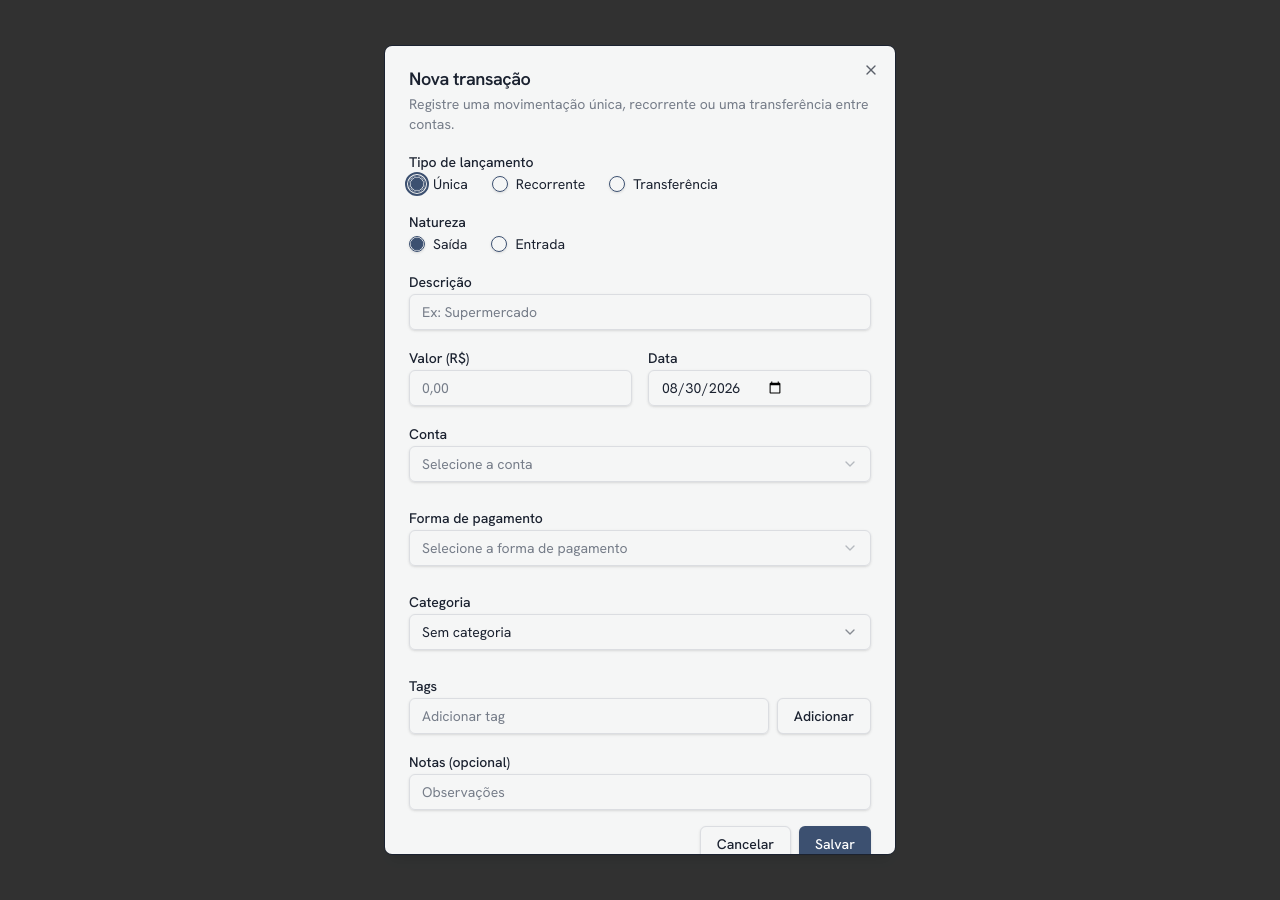
TransactionForm › displays a server error when creation fails
The width and height of the screenshot is (1280, 900).
Type "Supermercado" into the field labelled "Descrição".
click(640, 312); type("Supermercado")  # box [409,294,871,330]
Type "50,00" into the field labelled "Valor (R$)".
click(520, 388); type("50,00")  # box [409,370,632,406]
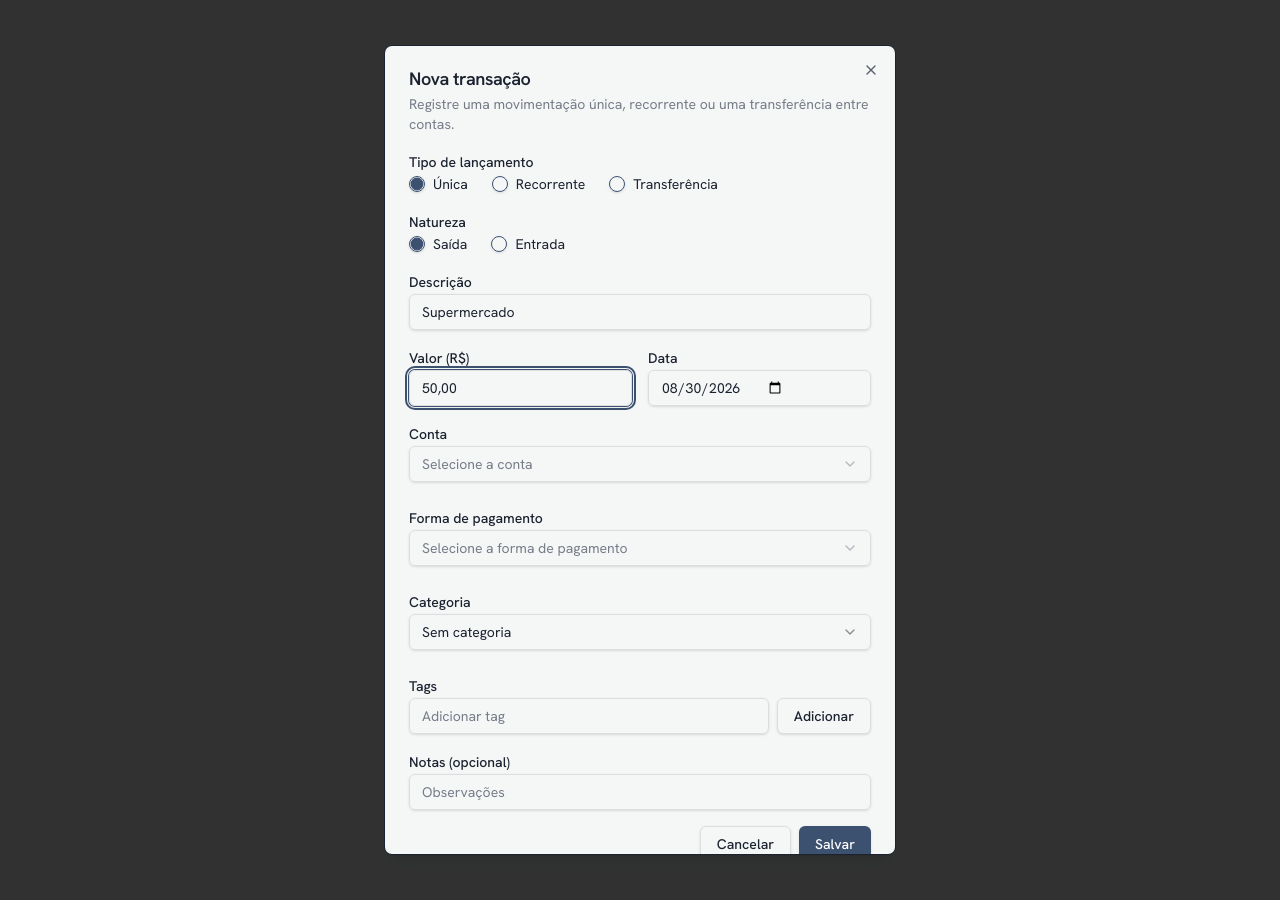
Click the dropdown labelled "conta".
click(477, 464)  # box [409,446,871,482]
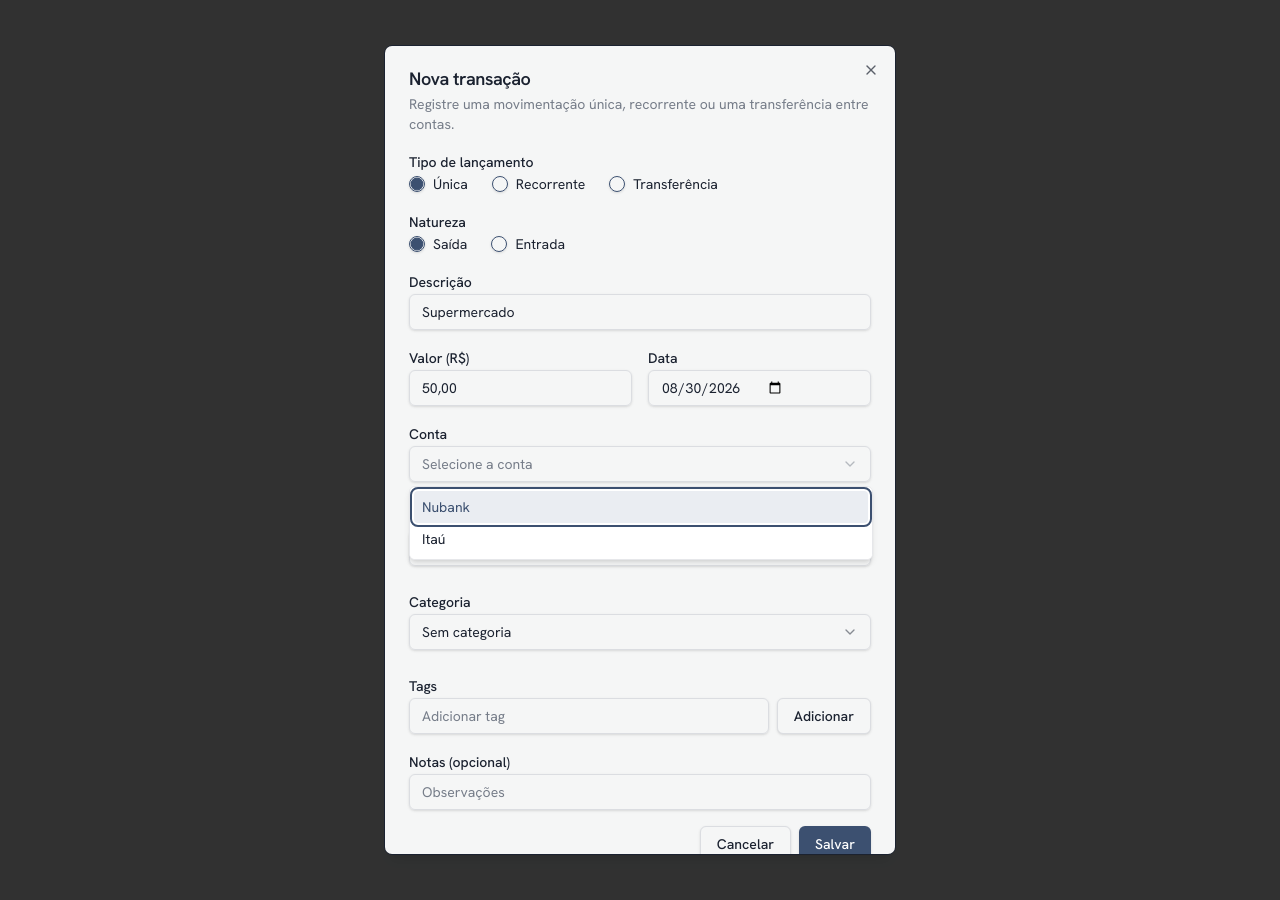
Click the option "Nubank".
click(446, 507)  # box [414,491,868,523]
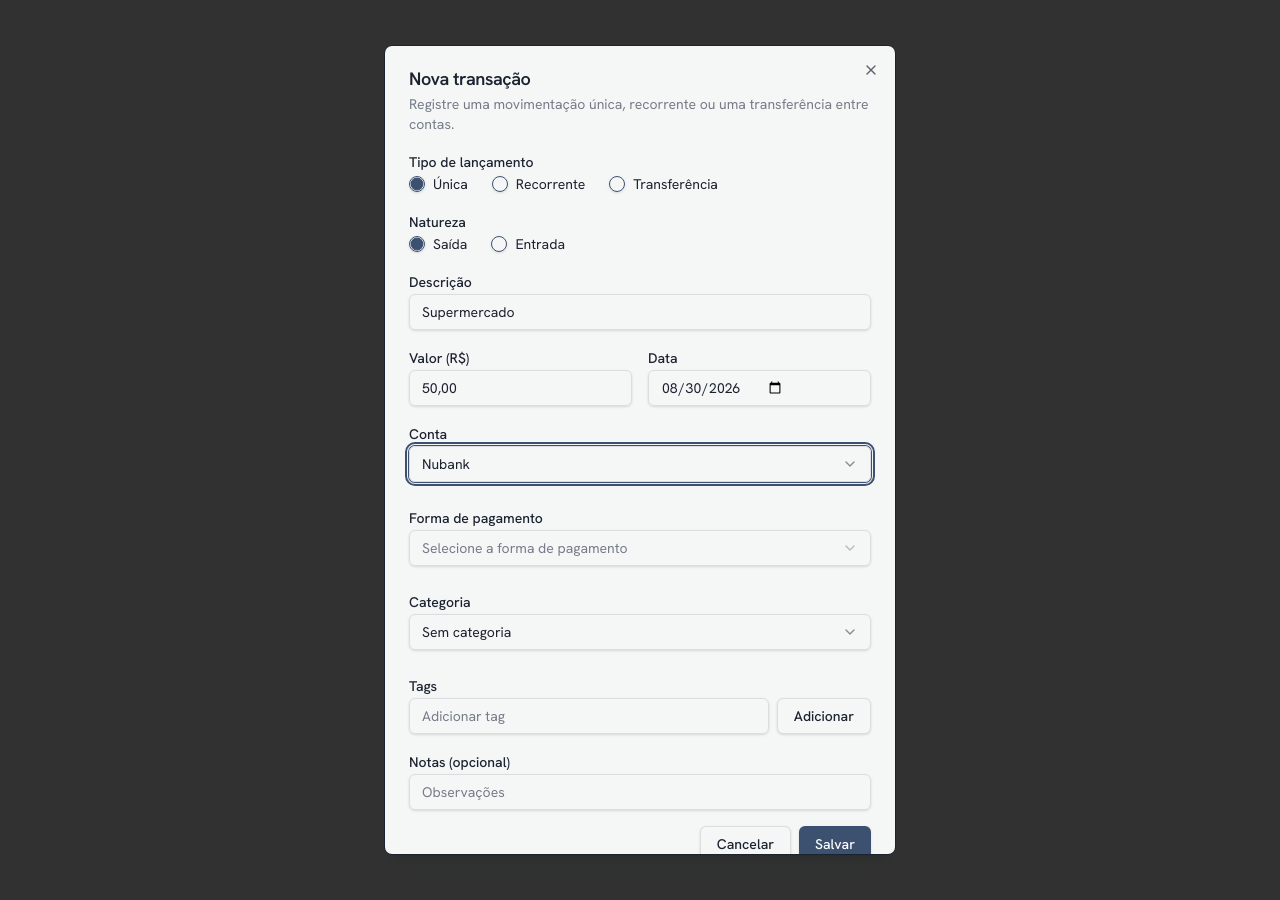
Click the dropdown labelled "forma de pagamento".
click(525, 548)  # box [409,530,871,566]
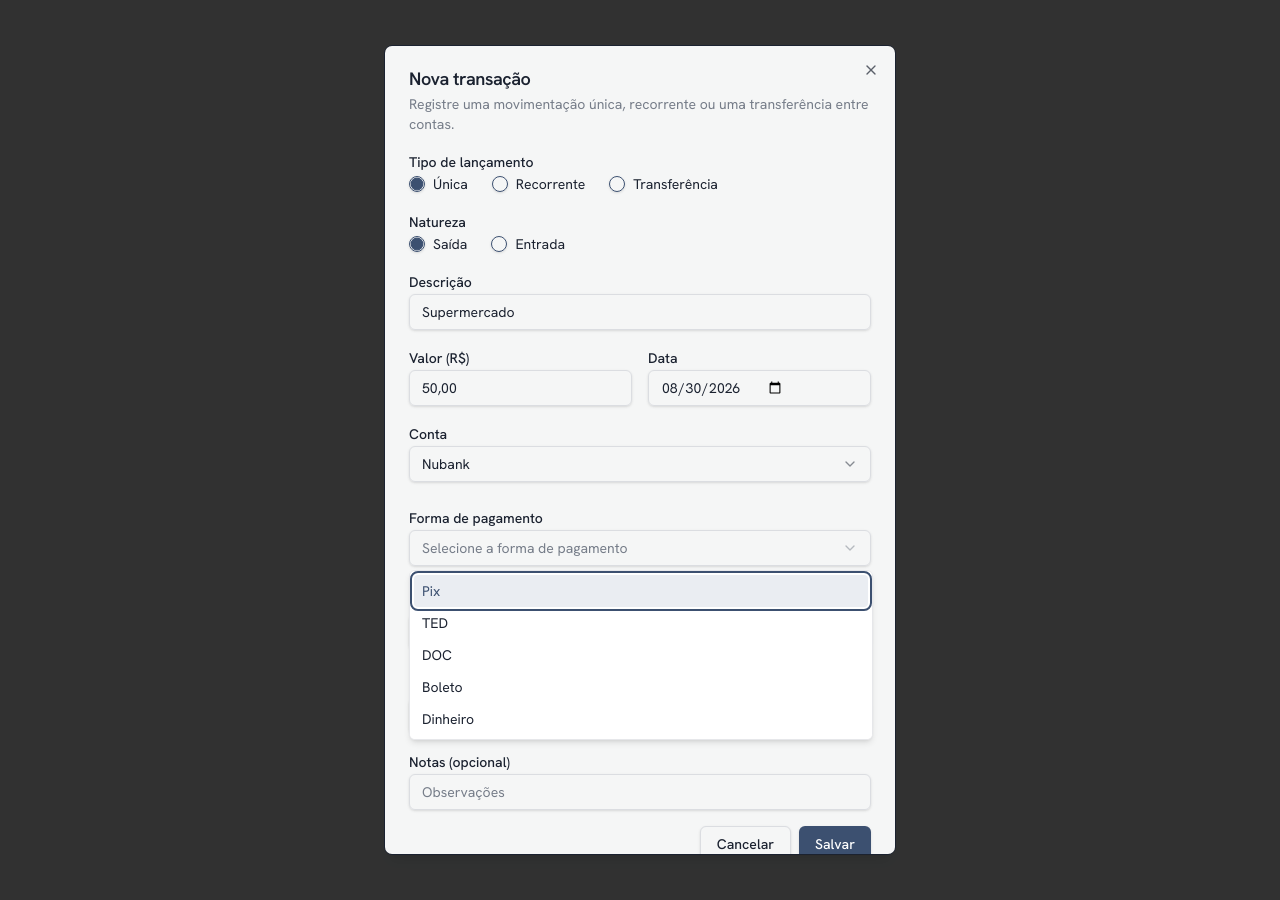
Click the option "Pix".
click(431, 591)  # box [414,575,868,607]
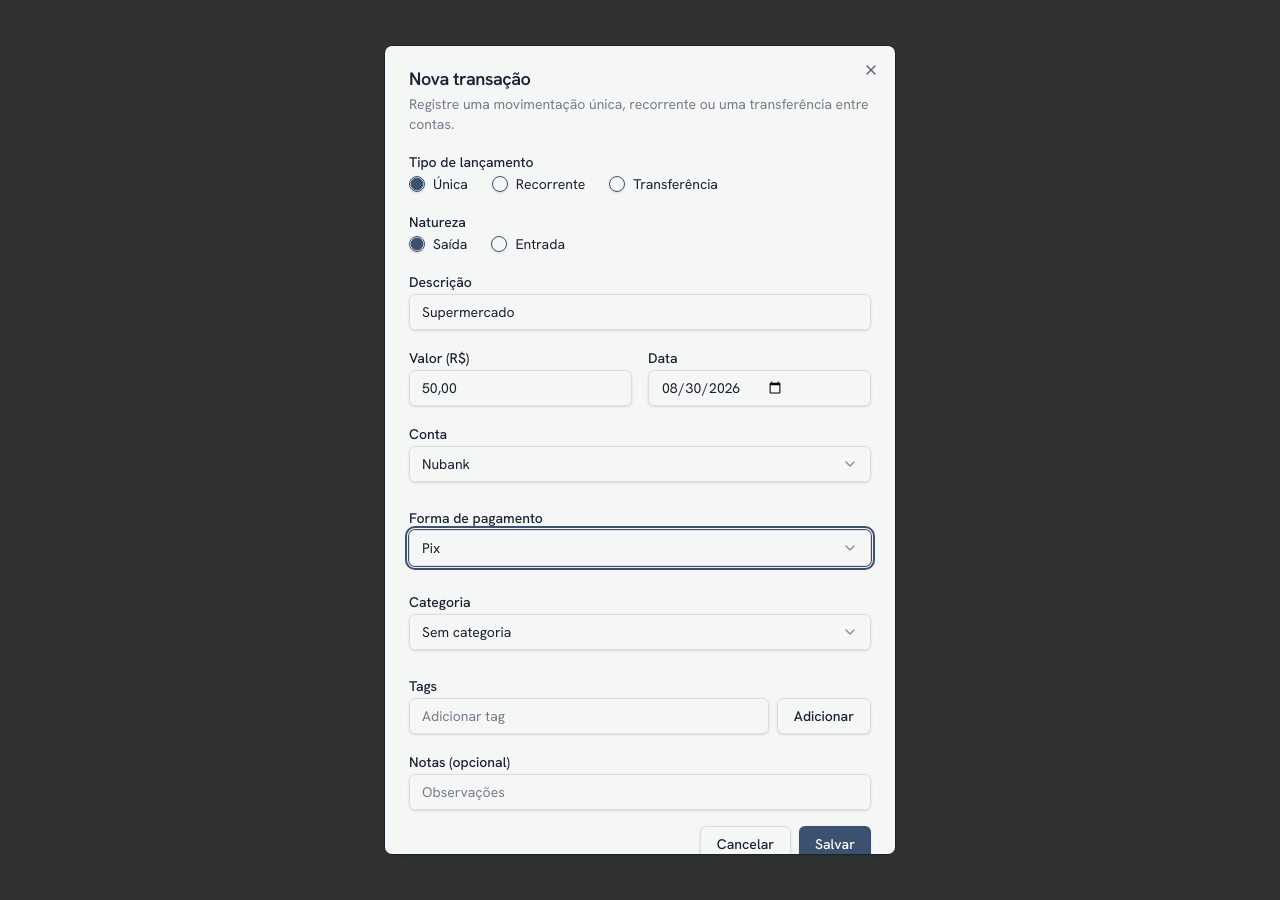
Click the button "Salvar".
click(835, 844)  # box [799,826,871,862]
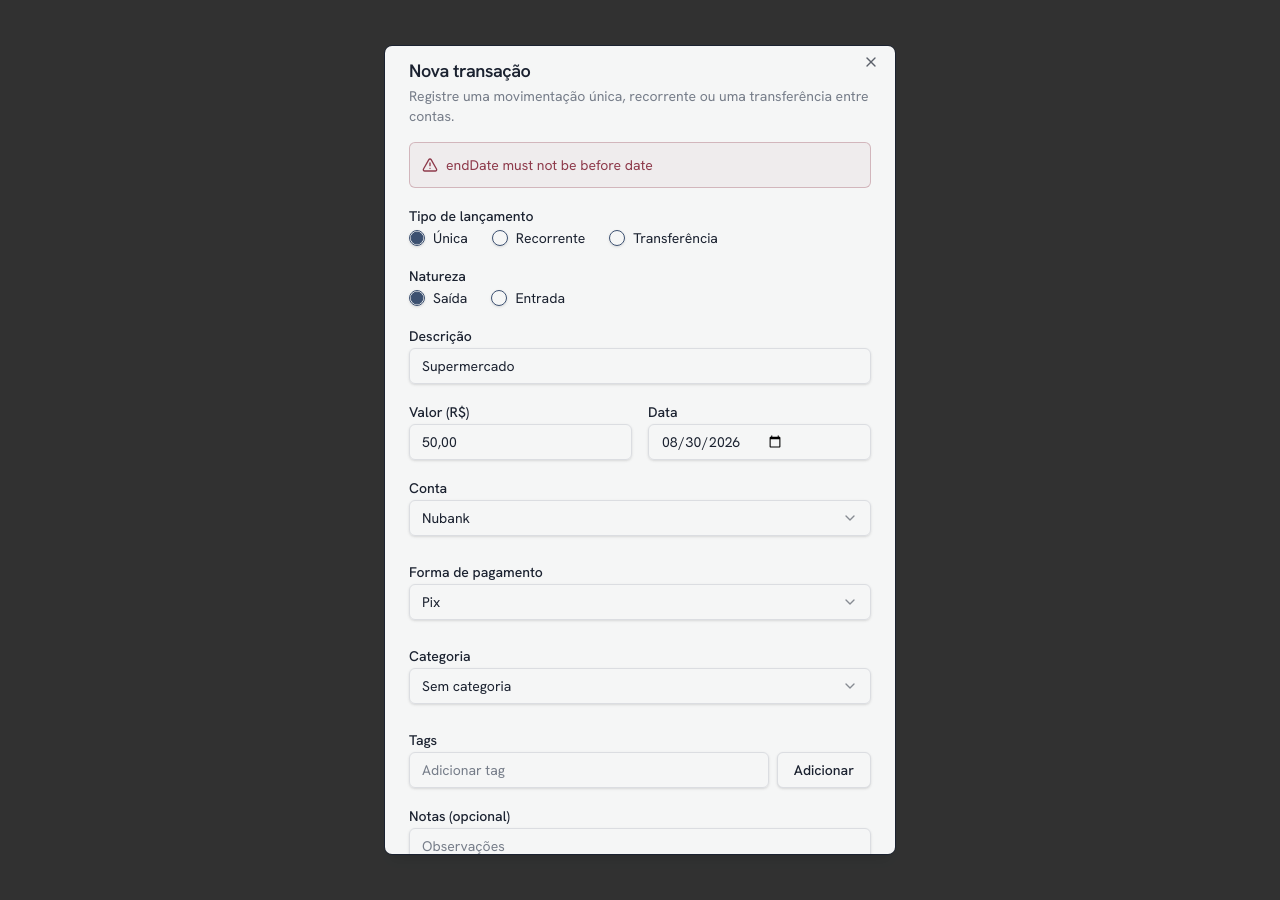
expect the text "endDate must not be before date" is shown: met, box [446,155,653,175]
